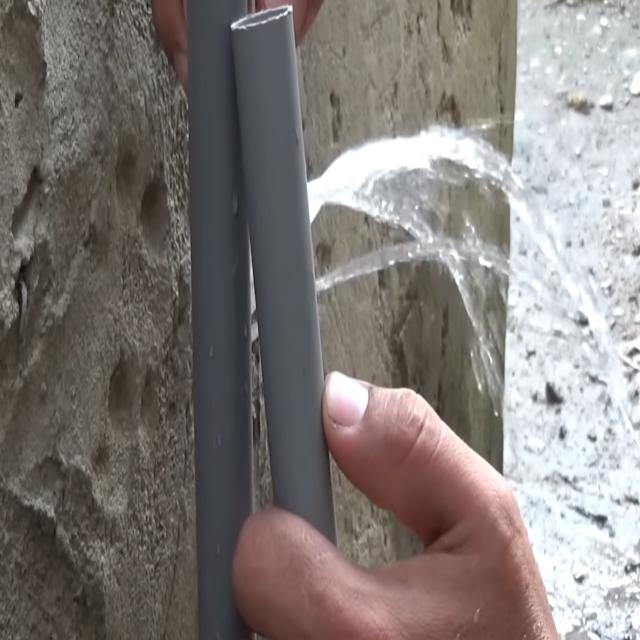leak: (308, 127, 609, 406)
